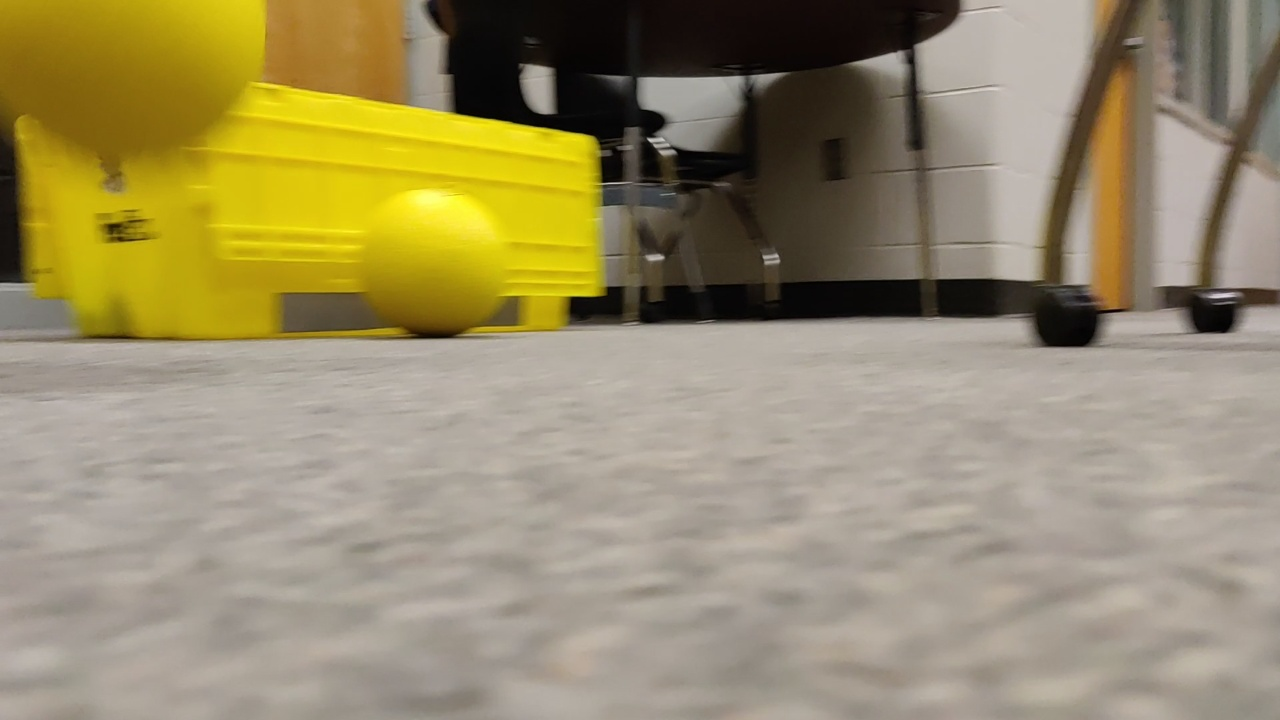Ball: (1, 9, 258, 164), (354, 176, 506, 333)
